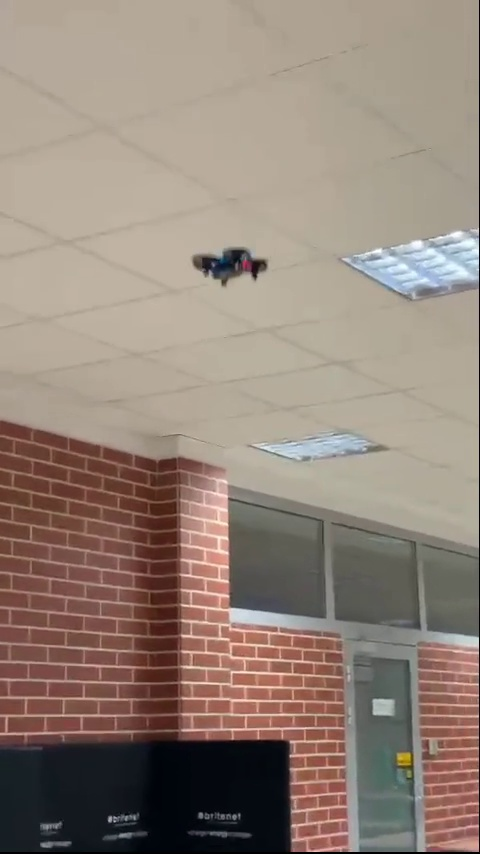drone: (188, 242, 269, 288)
